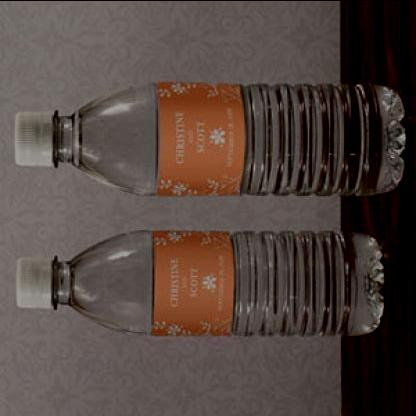bottle: (11, 72, 411, 203), (9, 223, 390, 341)
